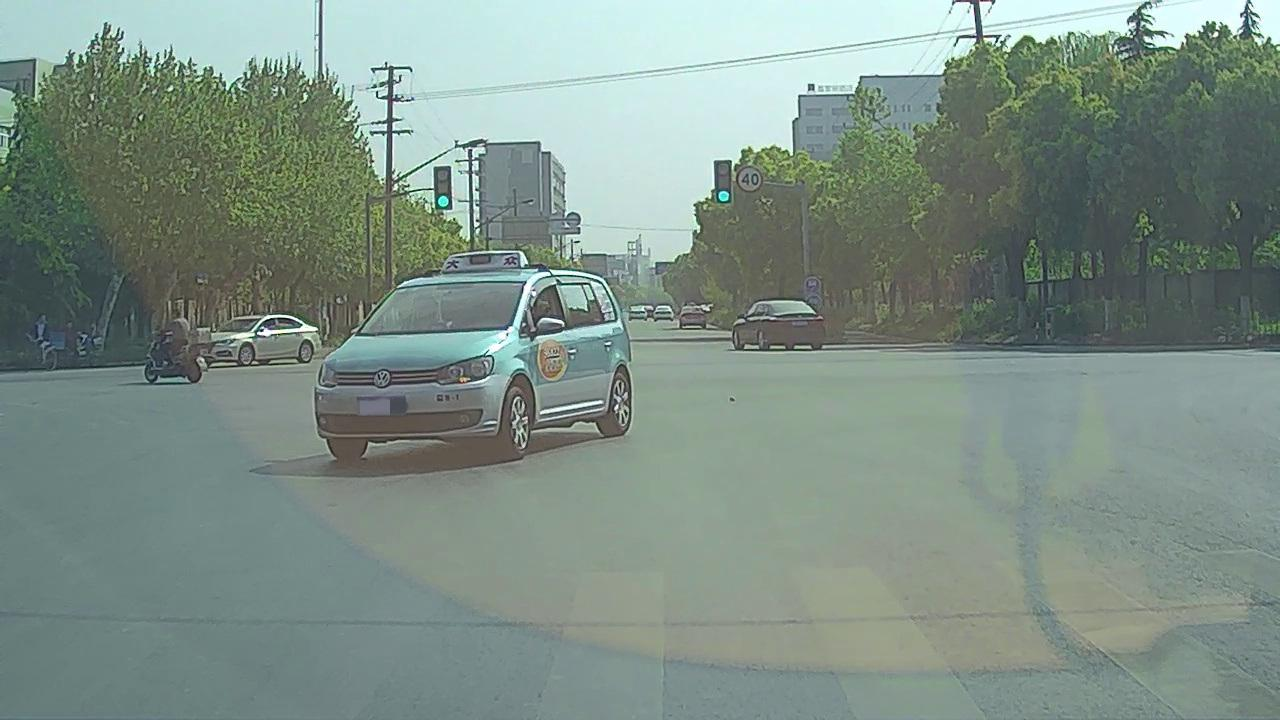traffic_light: (435, 166, 453, 209), (717, 162, 733, 202)
